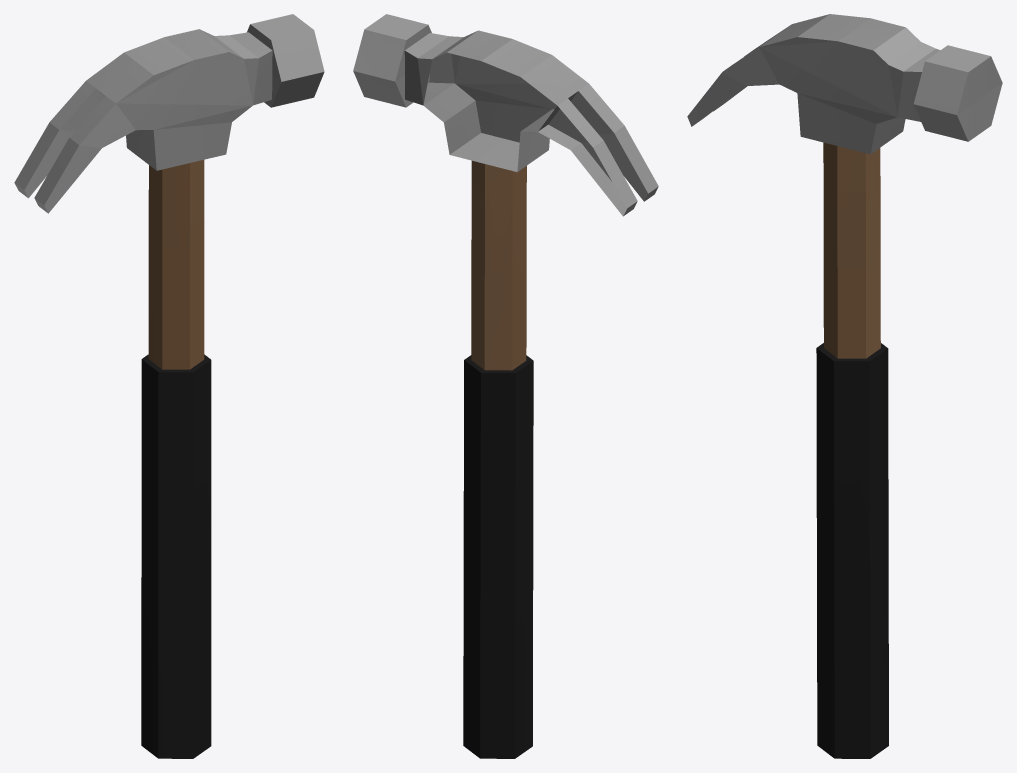
Rendered from Hammer.fbx.
3 renders of one model, left to right at view 1: azimuth 30°, elevation 25°; view 2: azimuth 150°, elevation 25°; view 3: azimuth 330°, elevation 25°, orthographic. The views are drawn at different scales.
Visible parts, largest first — view 1: Hammer; view 2: Hammer; view 3: Hammer.
Boxes of the visible parts, x1,y1,x2,y2 form: Hammer: (14,14,324,758); Hammer: (353,14,658,758); Hammer: (687,14,1002,758).
Bounding box in the file's own units: 170 × 416 × 47.04.
